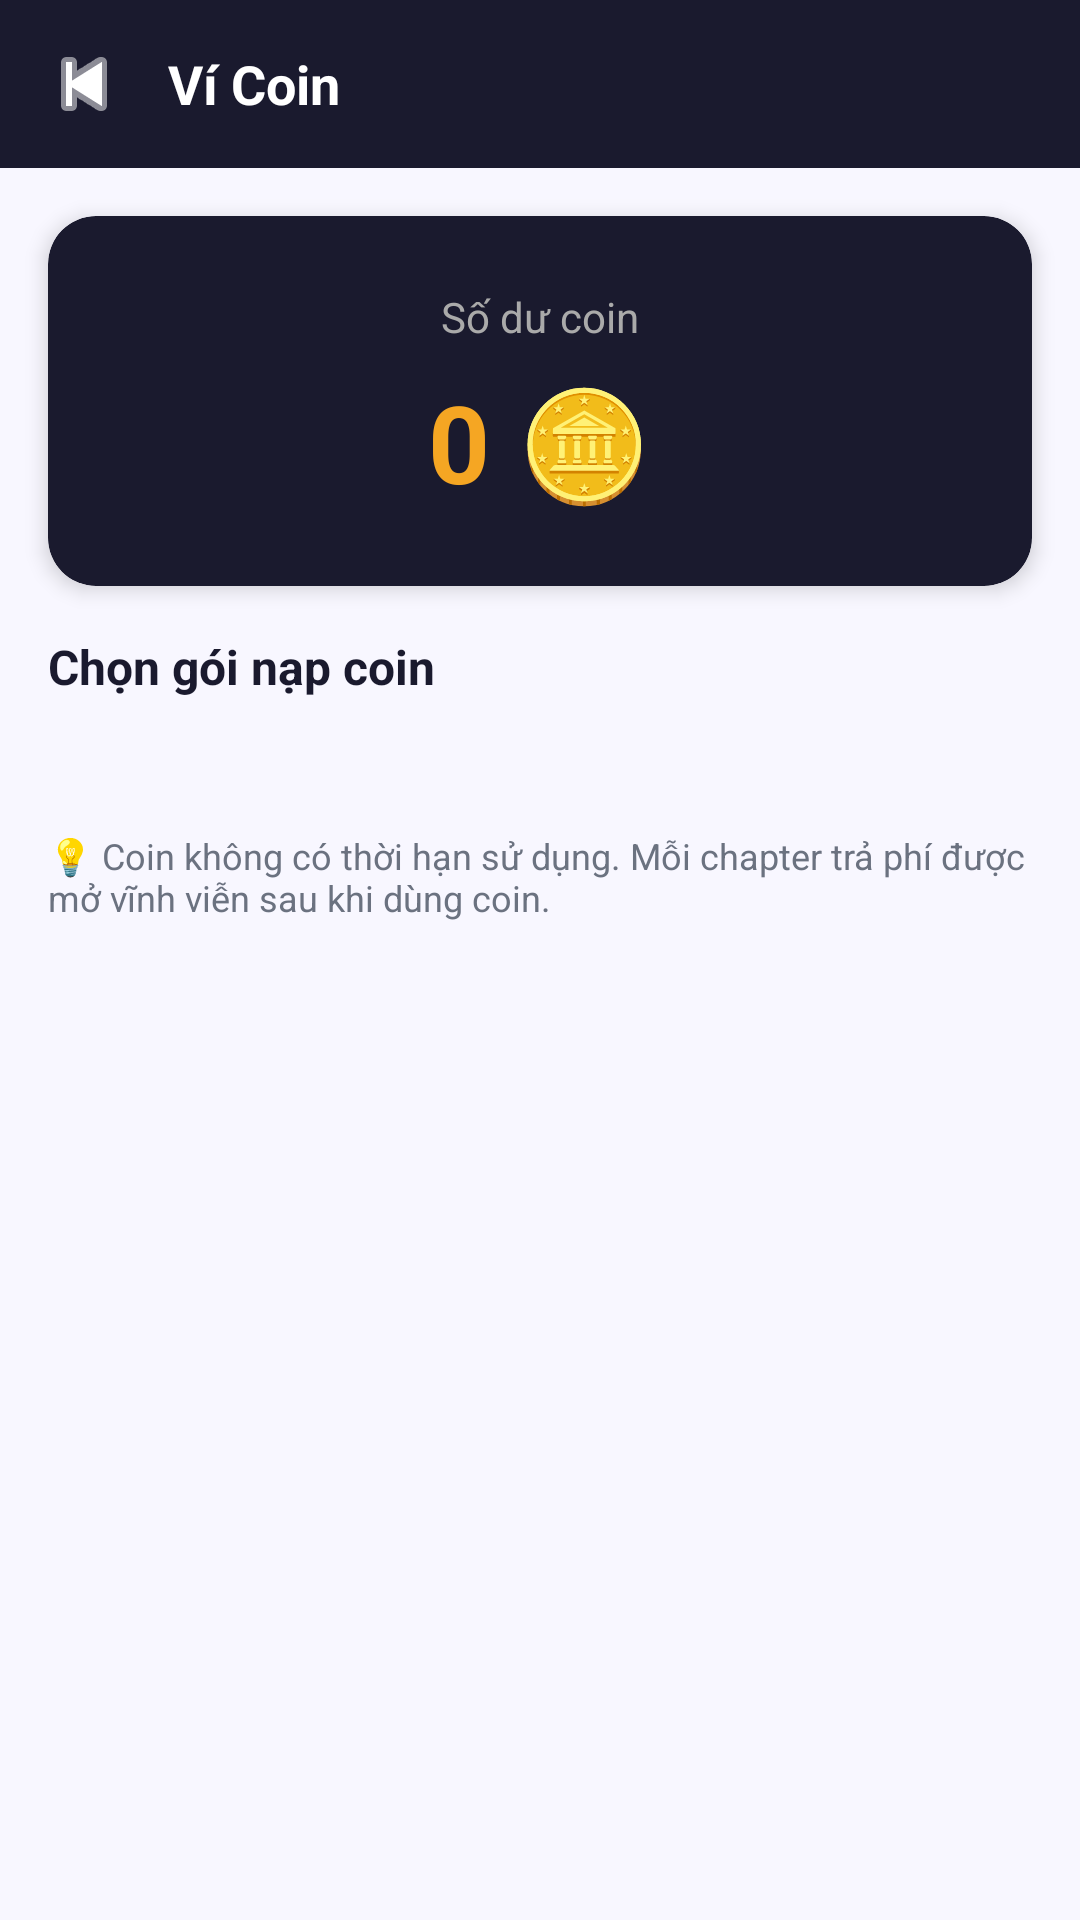

Icons on this 1080px×1920px Android screen, each with its box as (x1, y1, x2, y2):
previous: (61, 57, 107, 111)
